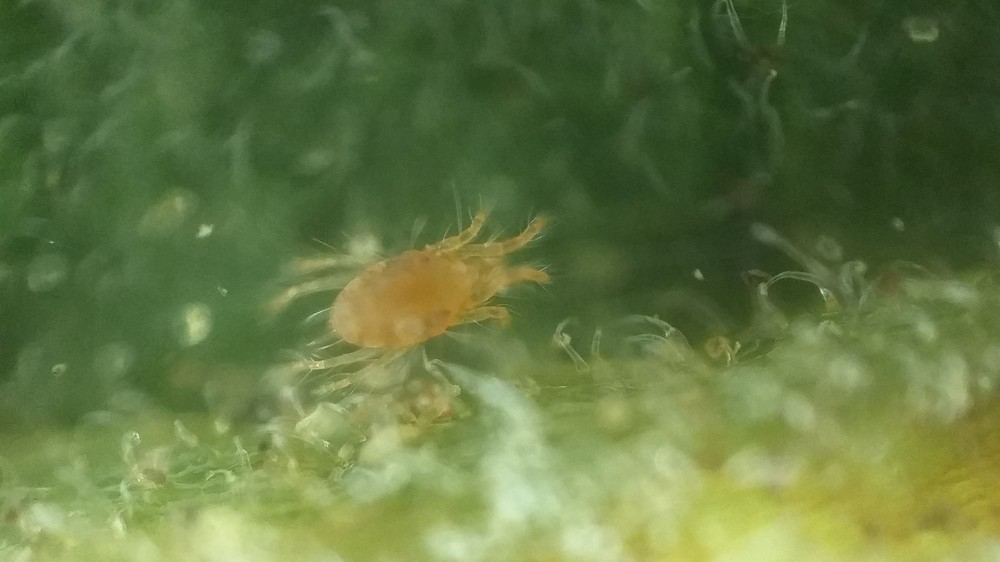Aracnido Rojo: (262, 183, 582, 442)
